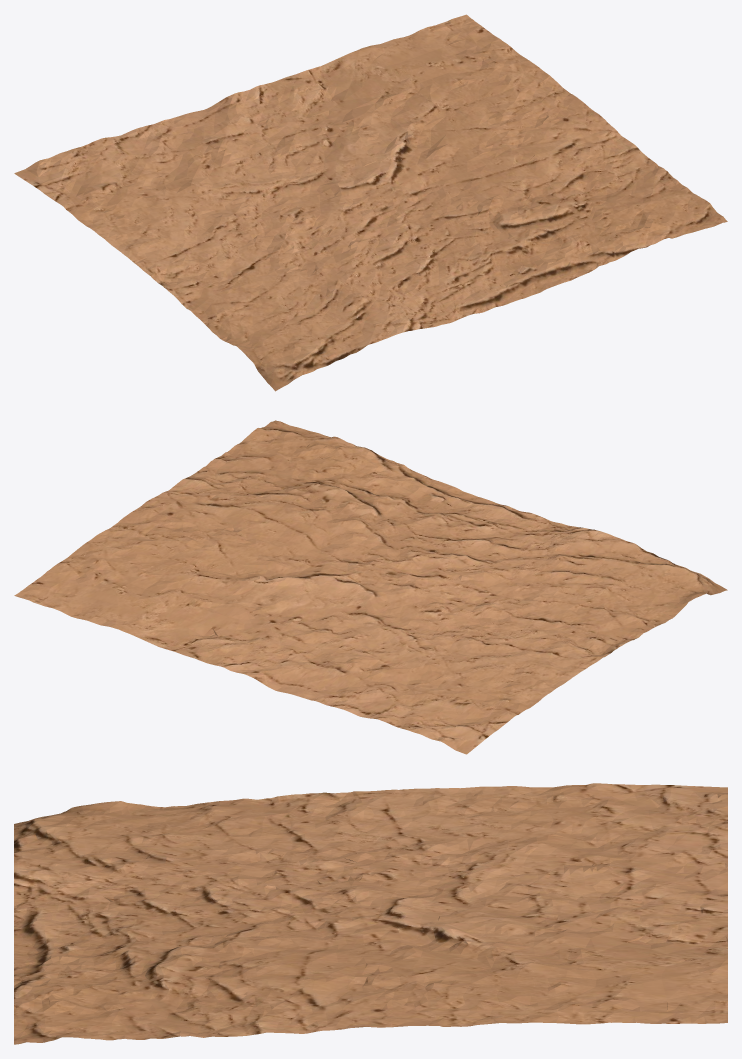
The picture shows the model from 3 angles, top to bottom: view 1: azimuth 30°, elevation 25°; view 2: azimuth 150°, elevation 25°; view 3: azimuth 270°, elevation 25°; orthographic projection. The views are drawn at different scales.
Bounding box in the file's own units: 1.04 × 0.1678 × 1.04.
Materials: 2 (2 with a texture image).
